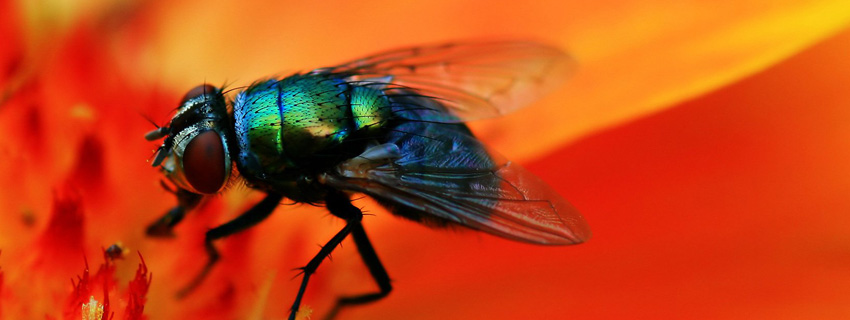fly: (141, 38, 582, 319)
